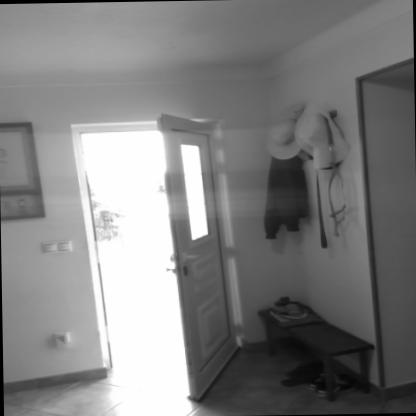semi: (43, 99, 235, 412)
